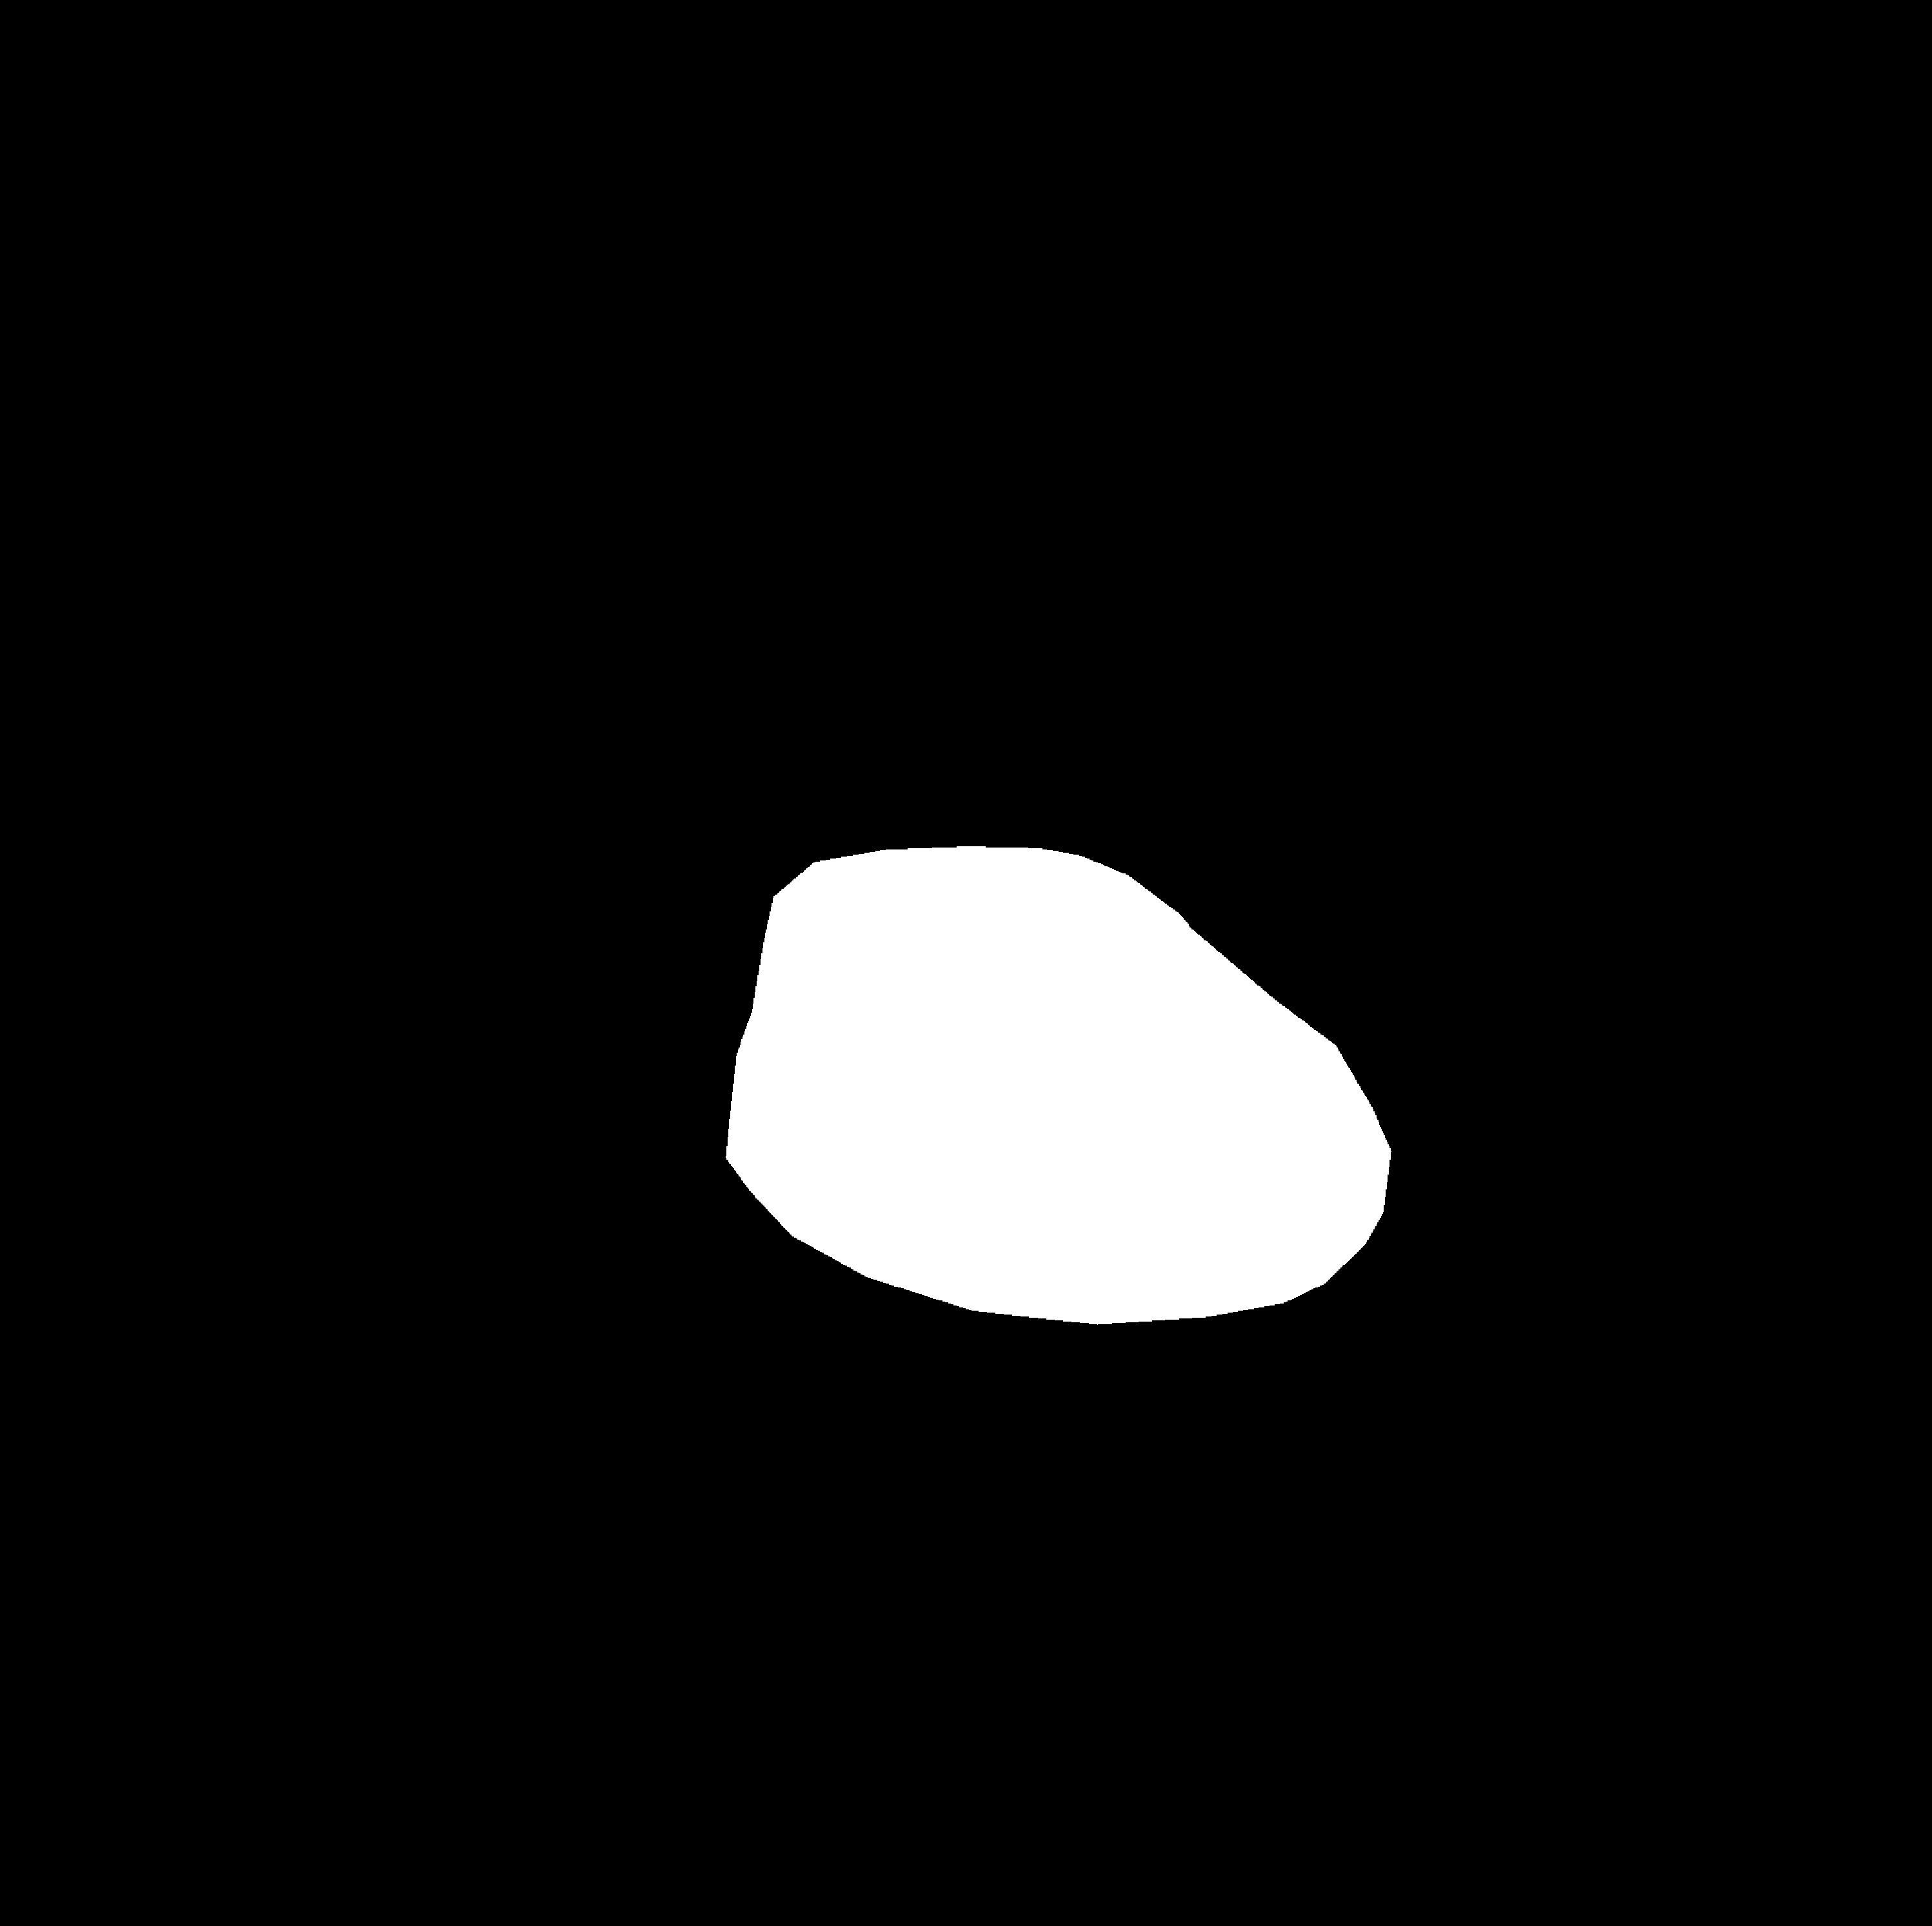heart: (727, 889, 1404, 1310)
left_lung: (272, 302, 842, 1293)
right_lung: (1022, 272, 1634, 1258)
